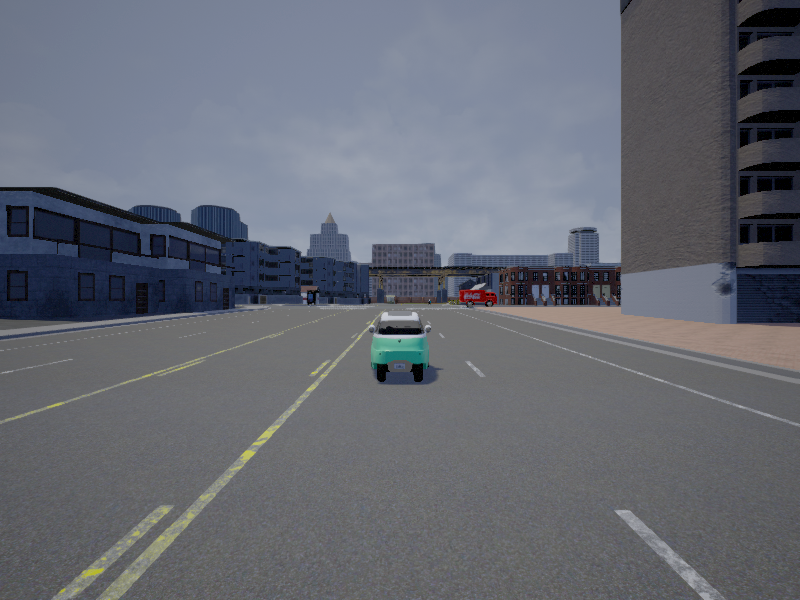Benign: (370, 311, 432, 382), (459, 288, 498, 308)
